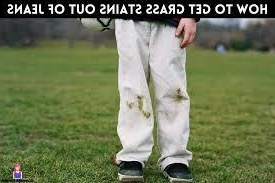earth: (174, 89, 183, 103), (137, 96, 144, 110), (142, 112, 151, 119), (126, 101, 133, 109)
